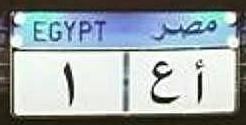1: (63, 59, 77, 109)
ain: (149, 58, 176, 107)
alif: (195, 57, 206, 103)
